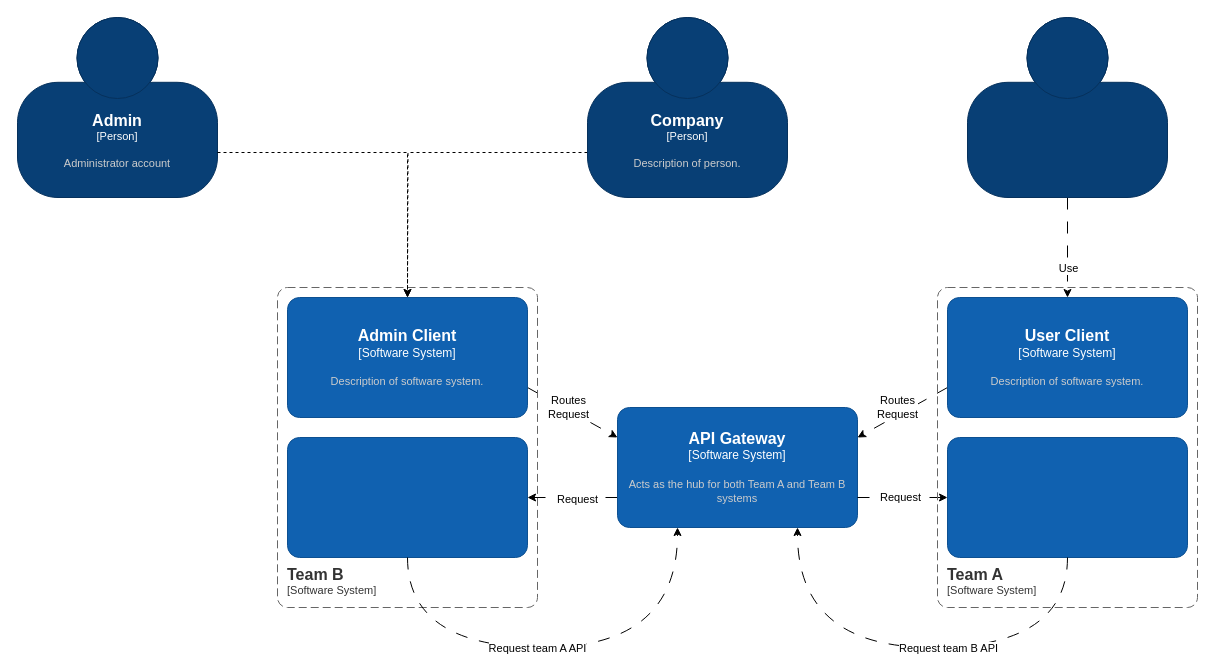
This 1215x672 diagram has some shape labels left out. Each missing label, with the centre of its shape:
"Admin BE [Software System] Description of software system." goes at pixel 407 497.
"User [Person] User Account" goes at pixel 1067 107.
"User BE [Software System] Description of software system." goes at pixel 1067 497.
